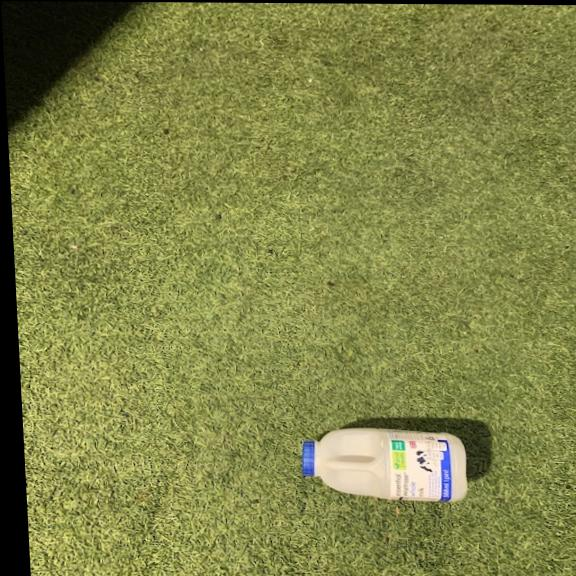Plastik: (298, 426, 468, 502)
